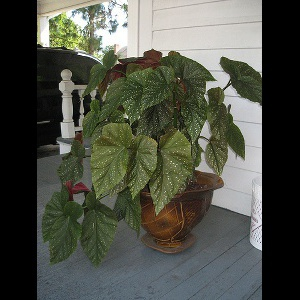flowerpot: (134, 169, 224, 253)
